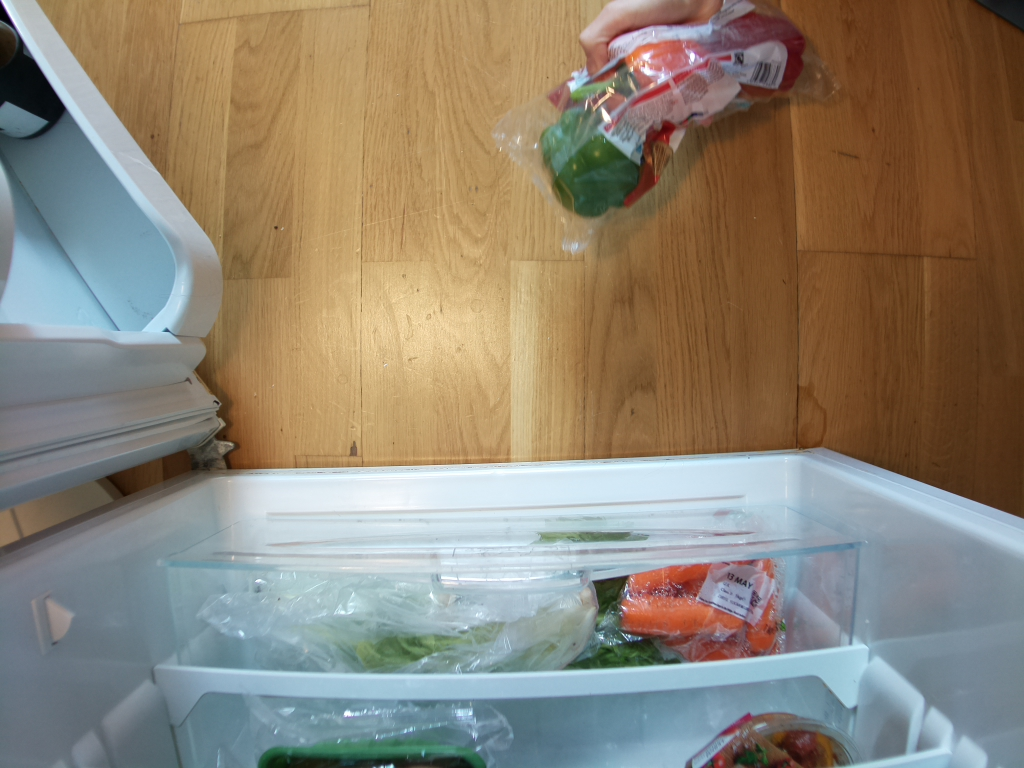pepper: (608, 24, 730, 124), (540, 108, 651, 216), (711, 7, 809, 103)
